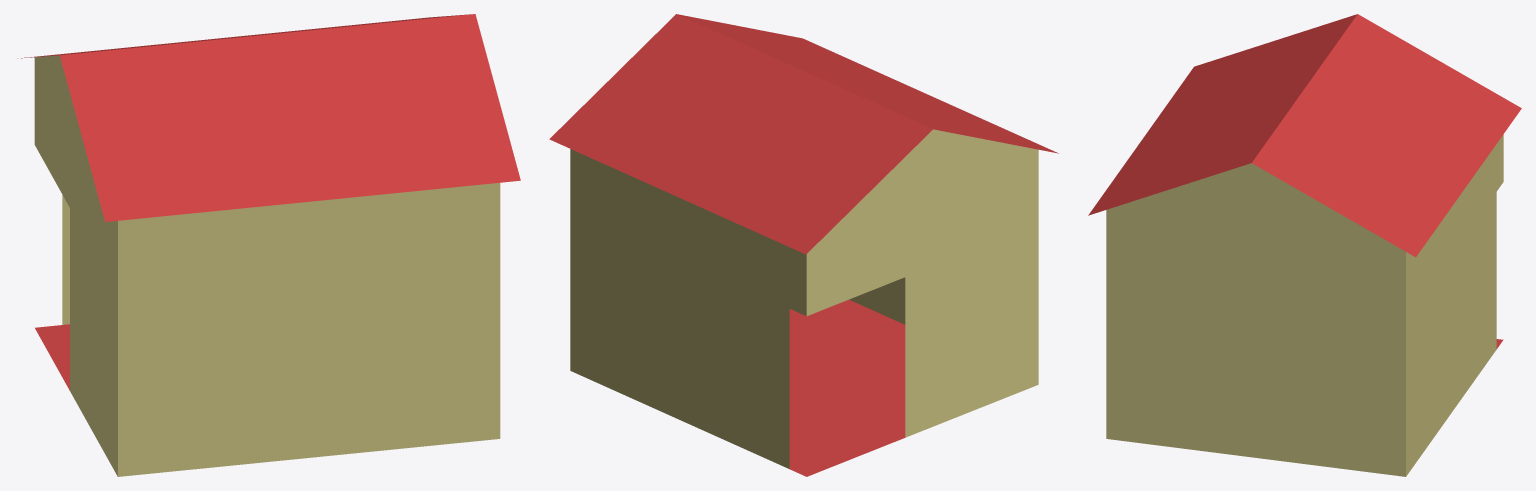
3 views of the same model, side by side, from view 1: azimuth 30°, elevation 25°; view 2: azimuth 150°, elevation 25°; view 3: azimuth 270°, elevation 25° (orthographic). The views are drawn at different scales.
Parts seen in each view (by area): view 1: group_5, group_3, group_4, group_6; view 2: group_5, group_3, group_6, group_4; view 3: group_5, group_3, group_4.
Part boxes in pixels (<box>): group_5: <box>34,55,500,476</box>; group_3: <box>17,14,519,221</box>; group_4: <box>60,15,520,221</box>; group_6: <box>35,324,69,390</box>; group_5: <box>570,129,1038,468</box>; group_3: <box>549,14,1058,254</box>; group_6: <box>789,299,905,476</box>; group_4: <box>676,14,1050,206</box>; group_5: <box>1106,134,1503,476</box>; group_3: <box>1107,14,1521,257</box>; group_4: <box>1088,14,1357,215</box>.
Size of the model in its own units: 15.3 by 14.71 by 11.25.
